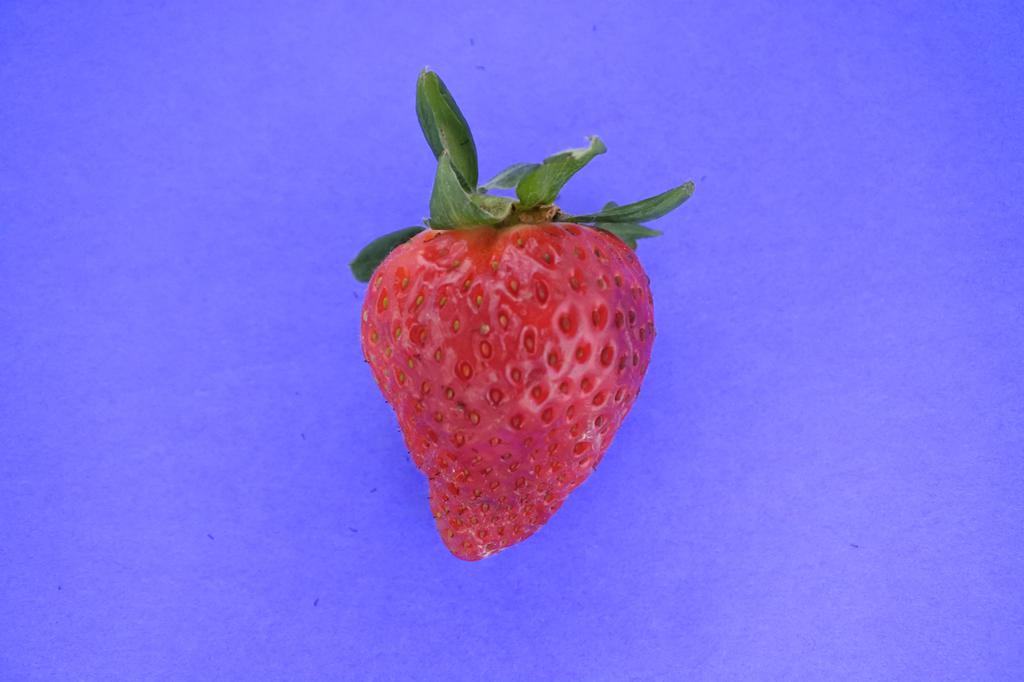red strawberry: (349, 70, 692, 564)
